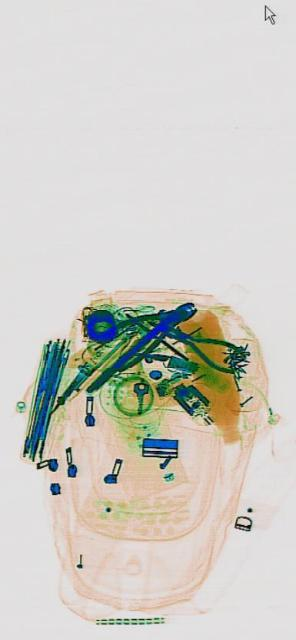Pliers: (108, 280, 198, 374), (144, 303, 242, 382)
